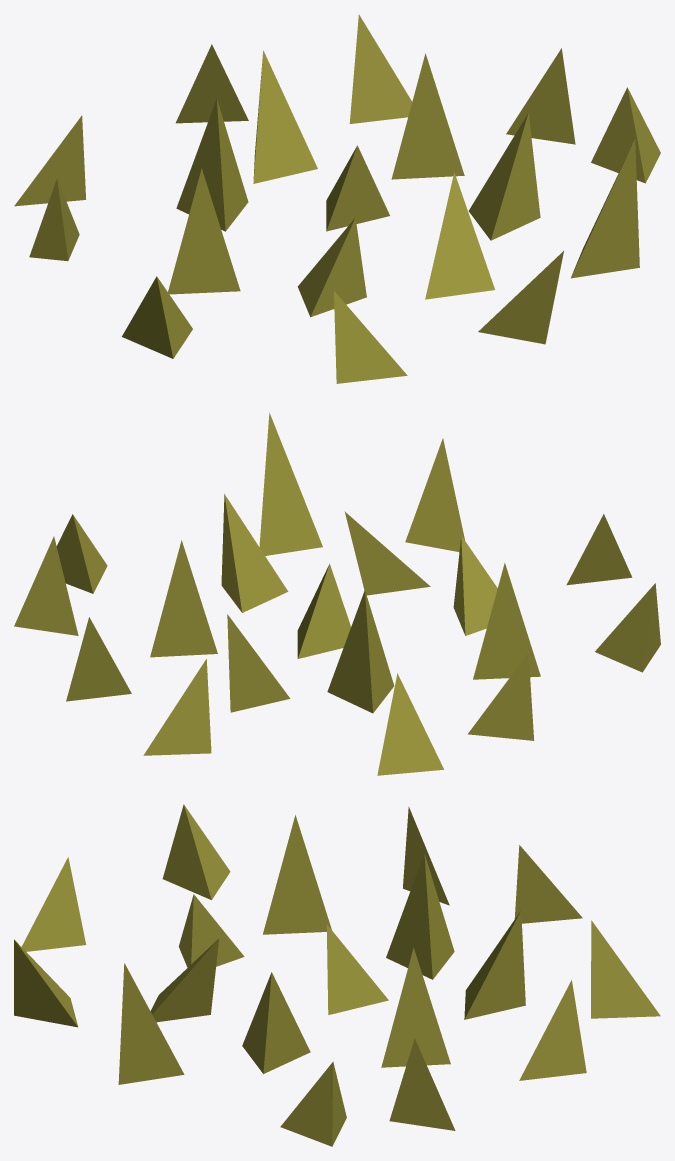
File: Grass_3_Yellow.fbx
The picture shows the model from 3 angles, top to bottom: view 1: azimuth 30°, elevation 25°; view 2: azimuth 150°, elevation 25°; view 3: azimuth 270°, elevation 25°; orthographic projection. The views are drawn at different scales.
Visible parts, largest first — view 1: Grass_3_Yellow; view 2: Grass_3_Yellow; view 3: Grass_3_Yellow.
Boxes of the visible parts, x1=… form: Grass_3_Yellow: x1=14, y1=14, x2=660, y2=383; Grass_3_Yellow: x1=14, y1=412, x2=660, y2=775; Grass_3_Yellow: x1=14, y1=804, x2=660, y2=1146.
Bounding box in the file's own units: 32.13 × 6.62 × 31.92.
